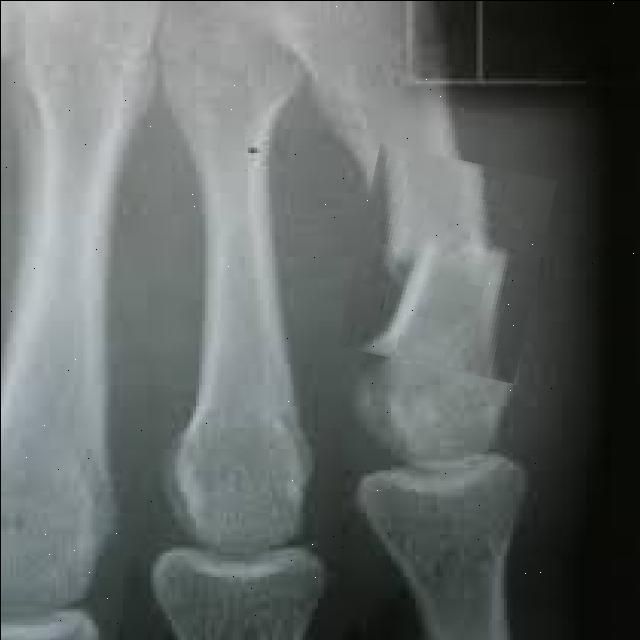bone: (346, 150, 547, 374)
